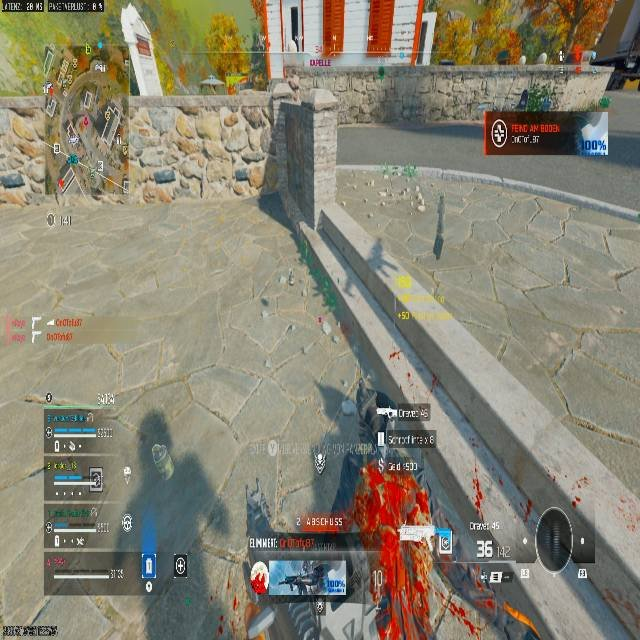head: (375, 239, 381, 247)
player: (368, 239, 385, 272)
